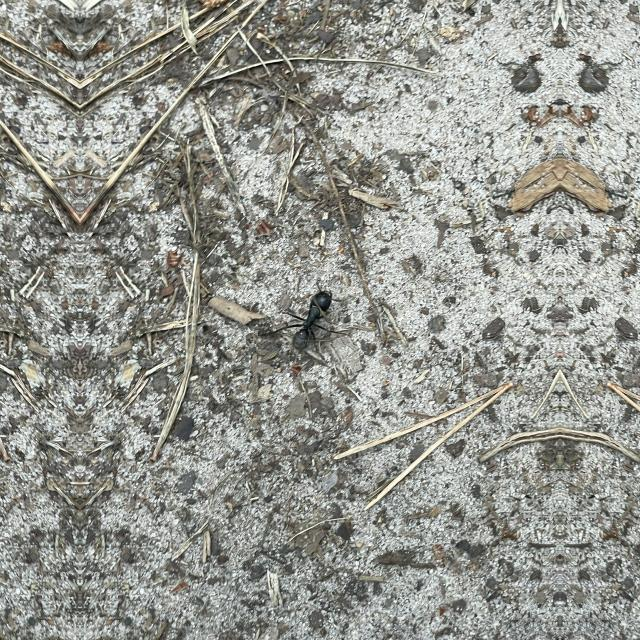Camponotus: (274, 276, 344, 356)
